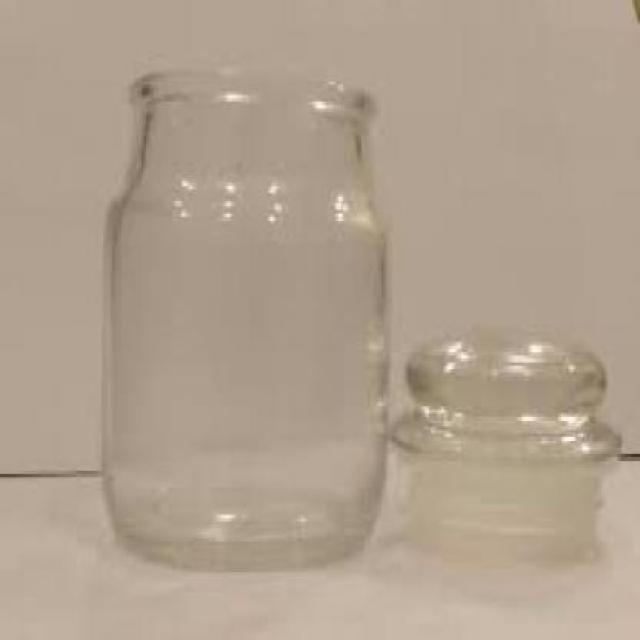kaca: (99, 68, 386, 562), (398, 332, 617, 566)
